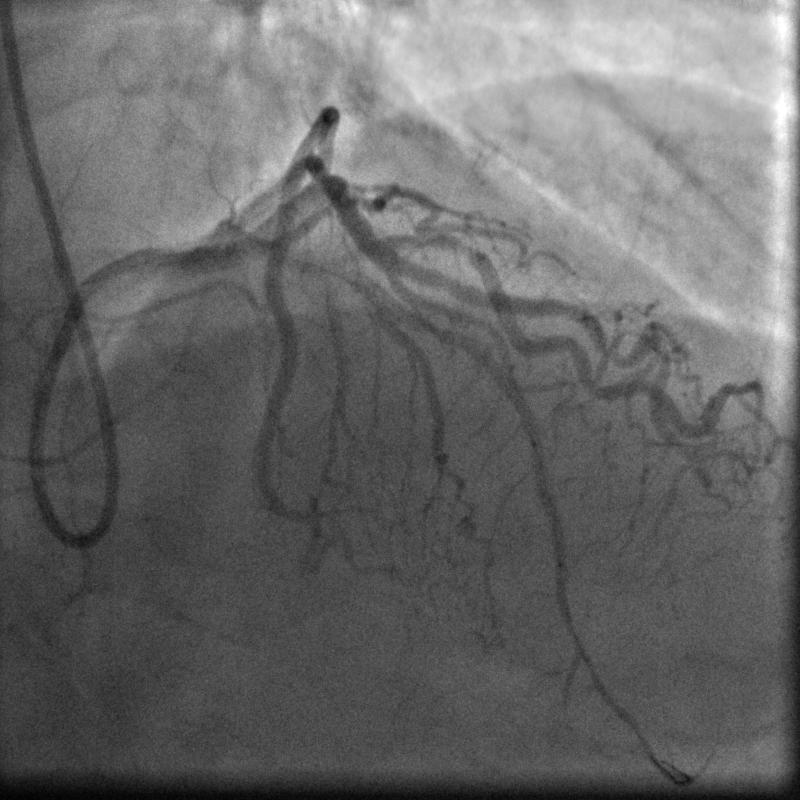Stenosis: (447, 229, 481, 270)
